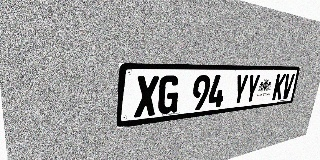4: (207, 75, 227, 109)
9: (191, 75, 211, 111)
G: (157, 75, 180, 115)
K: (272, 74, 286, 100)
V: (281, 74, 295, 99)
X: (134, 76, 159, 118)
Y: (231, 74, 249, 105), (244, 74, 261, 104)
